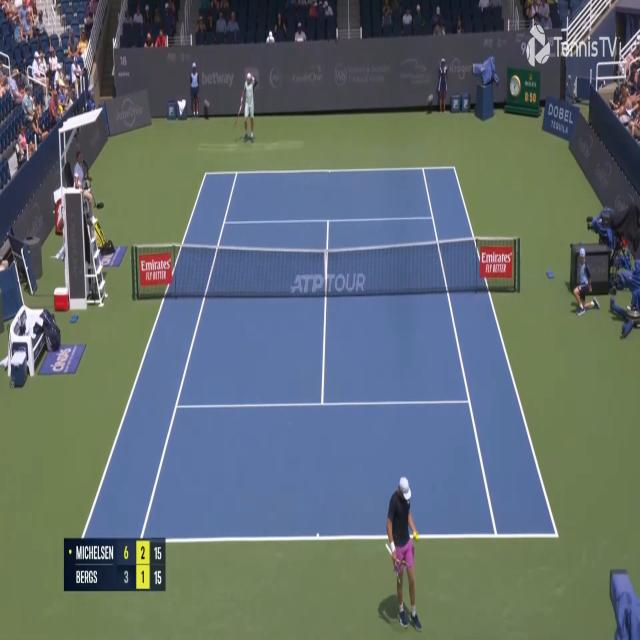tennis-player: (380, 473, 423, 638), (236, 70, 257, 143)
